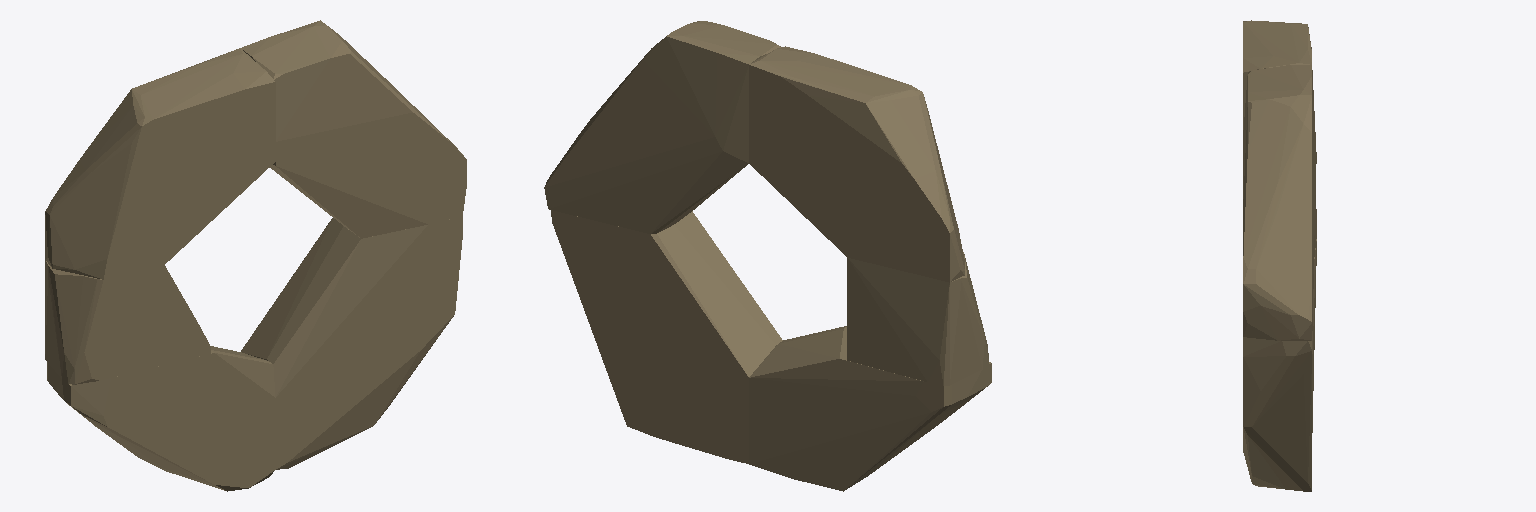
The robot description file, URDF, robot "doughnut":
<?xml version="1.0"?>
<robot name="doughnut">
  <link name="base_link">
    <visual>
      <origin xyz="0 0 0" rpy="0 0 0" />
      <geometry>
        <mesh filename="doughnut_decimated.obj" />      
      </geometry>
      <material name="tan">
        <color rgba="0.55 0.5 0.4 1" />
      </material>
    </visual>
    <collision>
      <origin xyz="0 0 0" rpy="0 0 0" />
      <geometry>
        <mesh filename="doughnut_decimated.obj" />
      </geometry>
    </collision>
  </link>
</robot>

--- Render facts (derived) ---
Views: 3 orthographic renders of the robot side by side, from view 1: azimuth 30°, elevation 25°; view 2: azimuth 150°, elevation 25°; view 3: azimuth 270°, elevation 25°.
Robot: doughnut — 1 links, 0 joints (none); root link base_link; default pose: all joints at 0.
Visible links, largest first — view 1: base_link; view 2: base_link; view 3: base_link.
Link boxes in pixels (<box>): base_link: <box>45,20,466,491</box>; base_link: <box>544,21,991,491</box>; base_link: <box>1243,20,1316,491</box>.
Size in the robot's own frame: 45.83 by 7.42 by 45.39 metres.
1 mesh visuals loaded from 1 distinct referenced files (1 OBJ).
